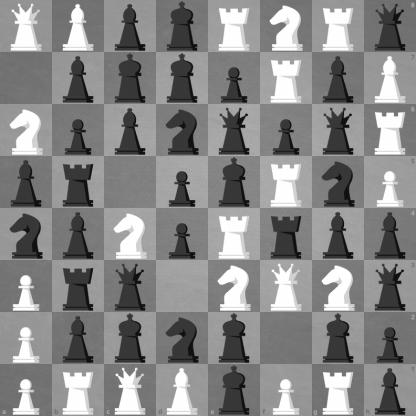B: (156, 364, 209, 416), (364, 52, 416, 104), (53, 1, 104, 52)
N: (1, 105, 52, 156), (105, 209, 156, 260), (209, 261, 260, 312), (261, 1, 312, 52), (313, 261, 364, 312)
P: (364, 156, 416, 209), (0, 364, 52, 416), (260, 364, 312, 416), (1, 261, 52, 312), (1, 313, 52, 364)
Q: (104, 364, 156, 416), (1, 1, 52, 52), (261, 261, 312, 312)
R: (52, 364, 104, 416), (312, 364, 364, 416), (364, 104, 416, 156), (209, 1, 260, 52), (209, 209, 260, 260), (261, 53, 312, 104), (261, 157, 312, 208), (313, 1, 364, 52)
b: (364, 364, 416, 416), (364, 209, 416, 260), (1, 157, 52, 208), (53, 53, 104, 104), (53, 209, 104, 260), (53, 313, 104, 364), (105, 1, 156, 52), (105, 105, 156, 156), (313, 53, 364, 104), (313, 209, 364, 260)
board: (0, 0, 415, 415)
k: (209, 364, 260, 416), (105, 53, 156, 104), (105, 313, 156, 364), (157, 1, 208, 52), (157, 53, 208, 104), (209, 157, 260, 208), (209, 313, 260, 364), (313, 313, 364, 364)
n: (1, 209, 52, 260), (157, 105, 208, 156), (157, 313, 208, 364), (313, 157, 364, 208)
p: (364, 312, 416, 364), (53, 105, 104, 156), (157, 157, 208, 208), (157, 209, 208, 260), (209, 53, 260, 104), (261, 105, 312, 156)
q: (364, 0, 416, 52), (364, 260, 416, 312), (105, 261, 156, 312), (209, 105, 260, 156), (313, 105, 364, 156)
r: (53, 157, 104, 208), (53, 261, 104, 312), (261, 209, 312, 260)
